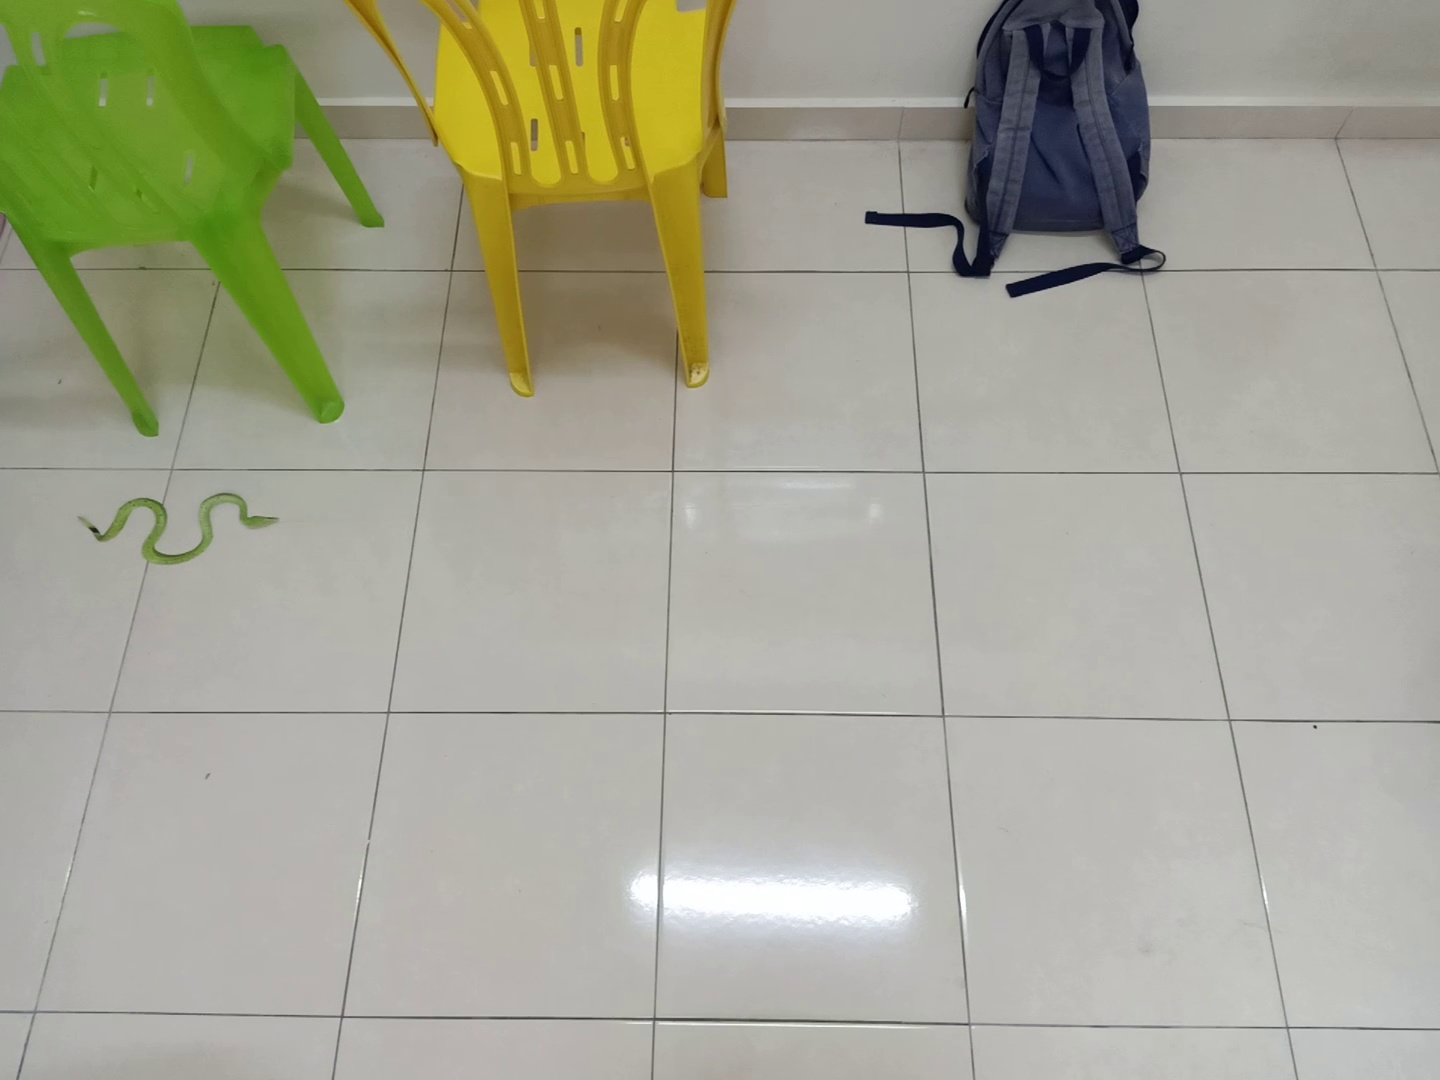snake: (73, 480, 287, 572)
